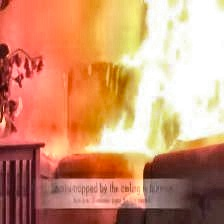fire: (92, 1, 224, 158)
